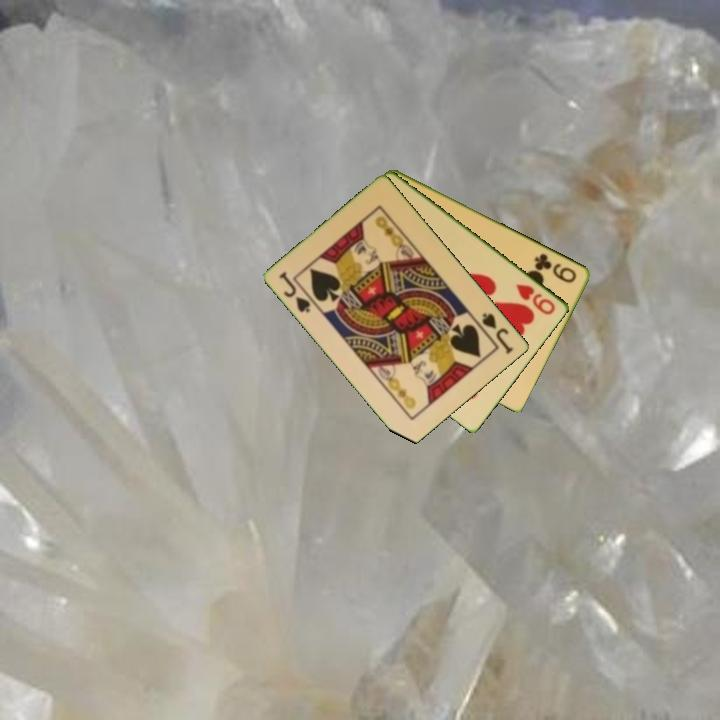9c: (531, 250, 580, 286)
9h: (513, 280, 559, 318)
Js: (478, 309, 517, 357), (276, 268, 314, 316)
